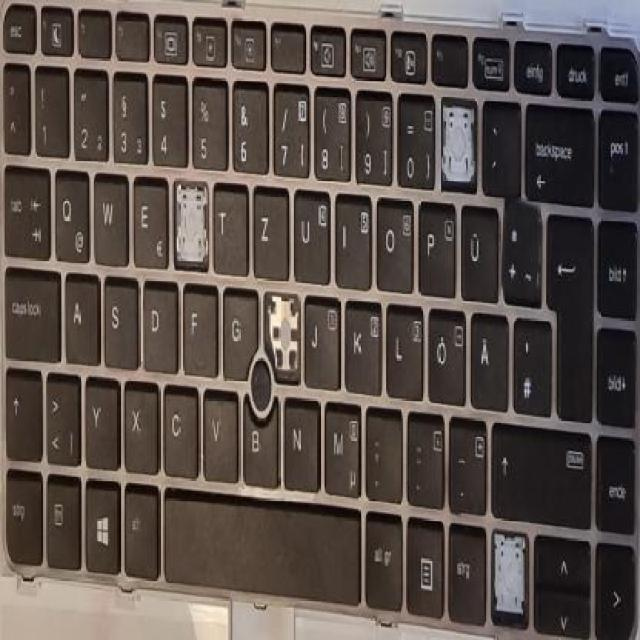Keyboard problems: (491, 532, 528, 628), (175, 183, 208, 269), (268, 294, 297, 380), (442, 106, 474, 183)
